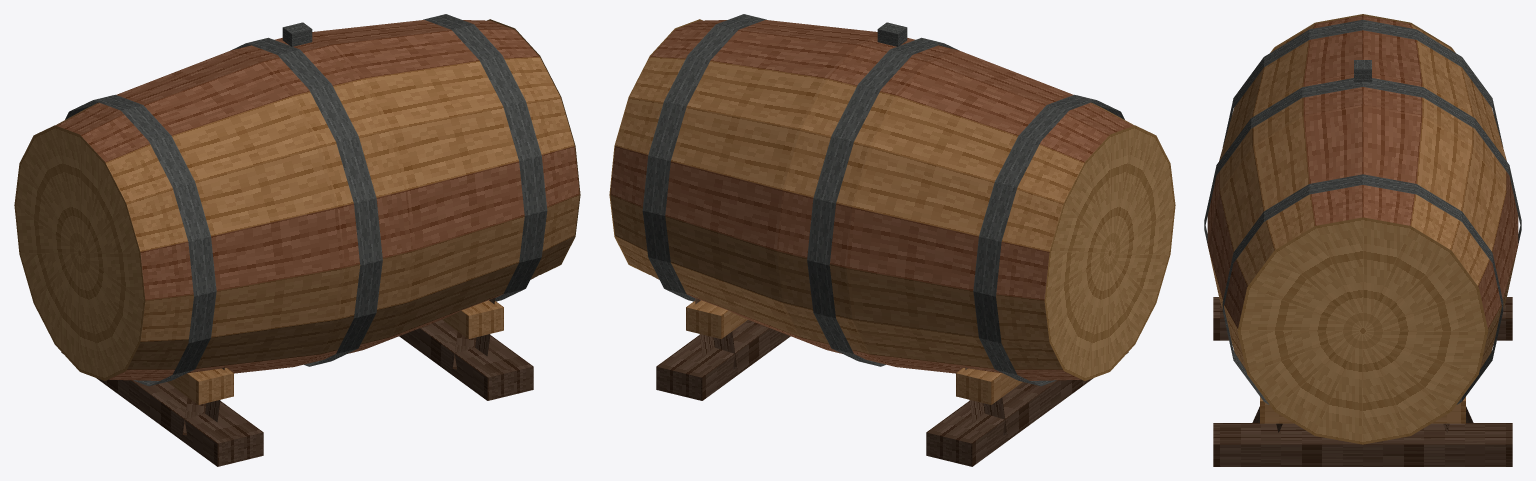
Rendered from tonel_bodega_medieval.glb.
3 renders of one model, left to right at view 1: azimuth 30°, elevation 25°; view 2: azimuth 150°, elevation 25°; view 3: azimuth 270°, elevation 25°, orthographic. The views are drawn at different scales.
Visible parts, largest first — view 1: tonel_bodega_medieval; view 2: tonel_bodega_medieval; view 3: tonel_bodega_medieval.
Part boxes in pixels (x1,y1,x2,y2): tonel_bodega_medieval: (14,14,580,466); tonel_bodega_medieval: (609,14,1175,466); tonel_bodega_medieval: (1204,14,1521,466).
Size of the model in its own units: 1.49 by 1.12 by 0.984.
Materials: 1 (1 with a texture image).
